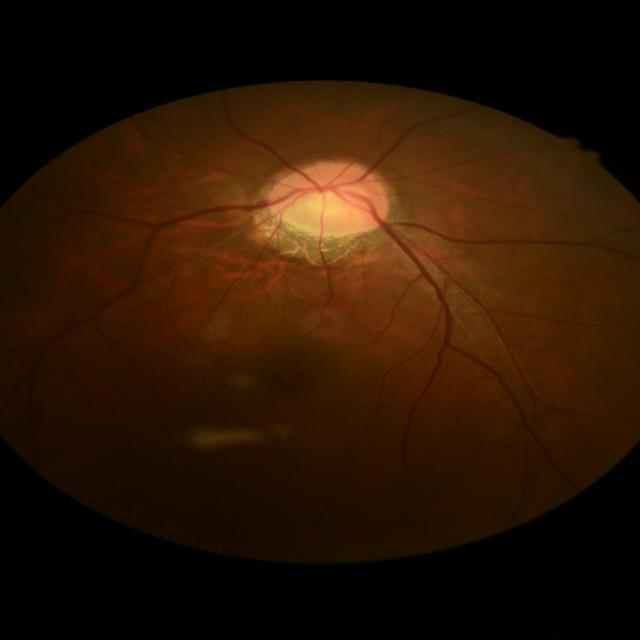cup: (283, 178, 372, 224)
disk: (267, 160, 389, 234)
